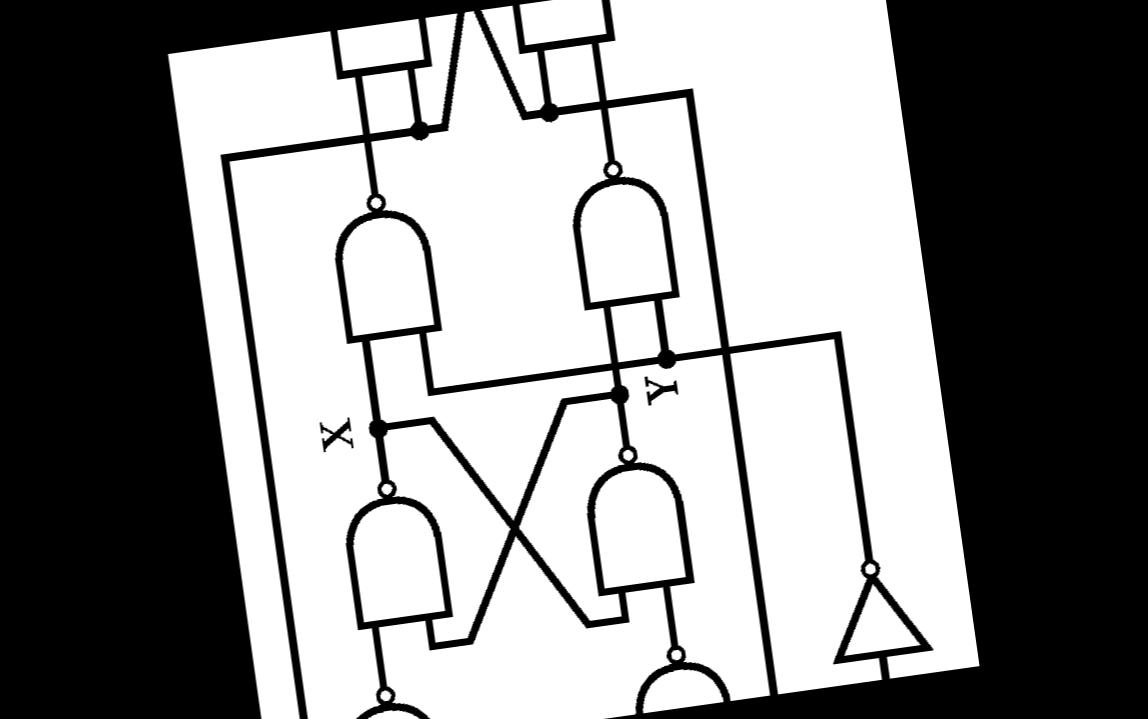nand: (303, 168, 462, 378), (540, 134, 697, 337), (569, 422, 719, 613), (324, 453, 462, 644), (590, 620, 747, 719), (322, 16, 446, 105), (504, 0, 633, 69), (317, 666, 456, 719)
not: (813, 543, 943, 684)
